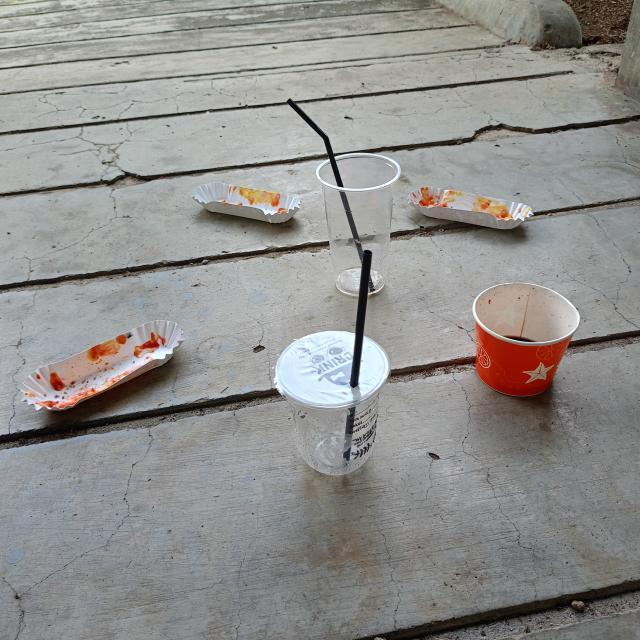recyclable waste: (268, 323, 396, 483), (14, 314, 190, 418), (466, 276, 586, 404), (310, 146, 407, 302), (403, 178, 537, 236), (186, 176, 306, 226)
